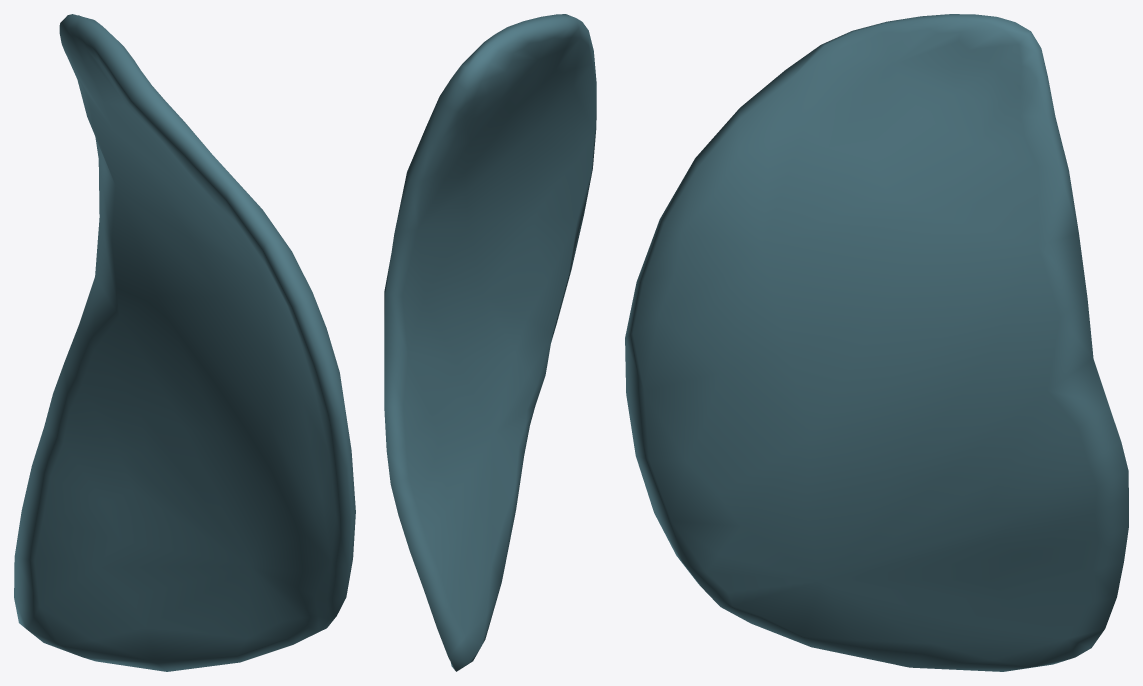
Rendered from Tibialis_anterior_1st_metatarsal_right.glb.
3 views of the same model, side by side, from view 1: azimuth 30°, elevation 25°; view 2: azimuth 150°, elevation 25°; view 3: azimuth 270°, elevation 25° (orthographic). The views are drawn at different scales.
Visible parts, largest first — view 1: Tibialis_anterior_on_1st_metatarsal_bone.r_Generated_Mesh_Fr; view 2: Tibialis_anterior_on_1st_metatarsal_bone.r_Generated_Mesh_Fr; view 3: Tibialis_anterior_on_1st_metatarsal_bone.r_Generated_Mesh_Fr.
Boxes of the visible parts, <box> form: Tibialis_anterior_on_1st_metatarsal_bone.r_Generated_Mesh_Fr: <box>14,14,355,671</box>; Tibialis_anterior_on_1st_metatarsal_bone.r_Generated_Mesh_Fr: <box>384,14,596,671</box>; Tibialis_anterior_on_1st_metatarsal_bone.r_Generated_Mesh_Fr: <box>625,14,1128,671</box>.
Bounding box in the file's own units: 0.00262 × 0.0115 × 0.0081.
